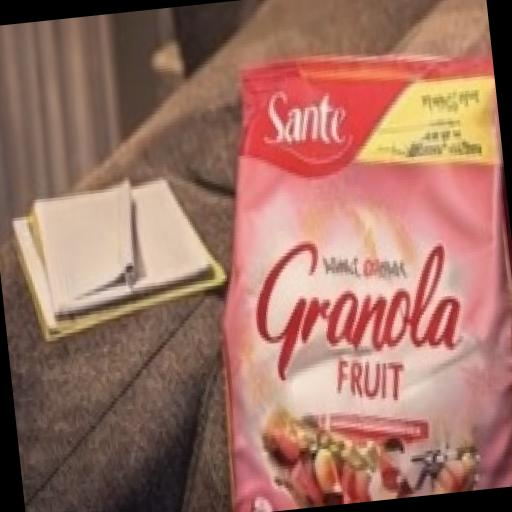granola: (167, 9, 512, 512)
